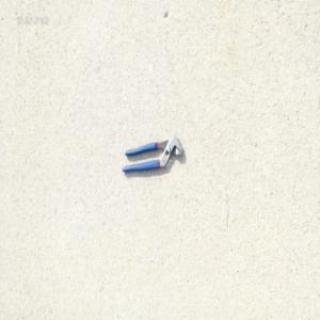Pliertrack_idkeyframe: (120, 134, 183, 174)
